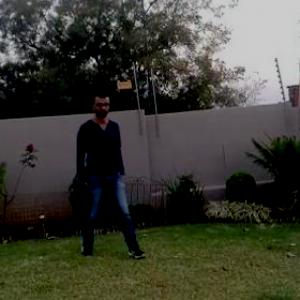follow: (73, 93, 127, 251)
